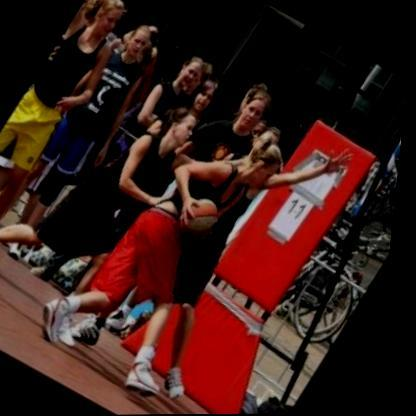basketball: (173, 190, 235, 249)
